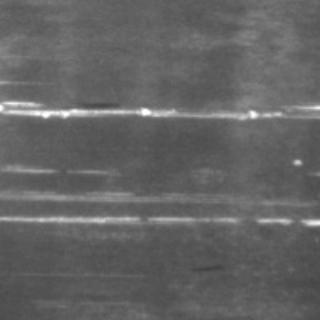scratches: (1, 184, 316, 226), (1, 93, 316, 121)
